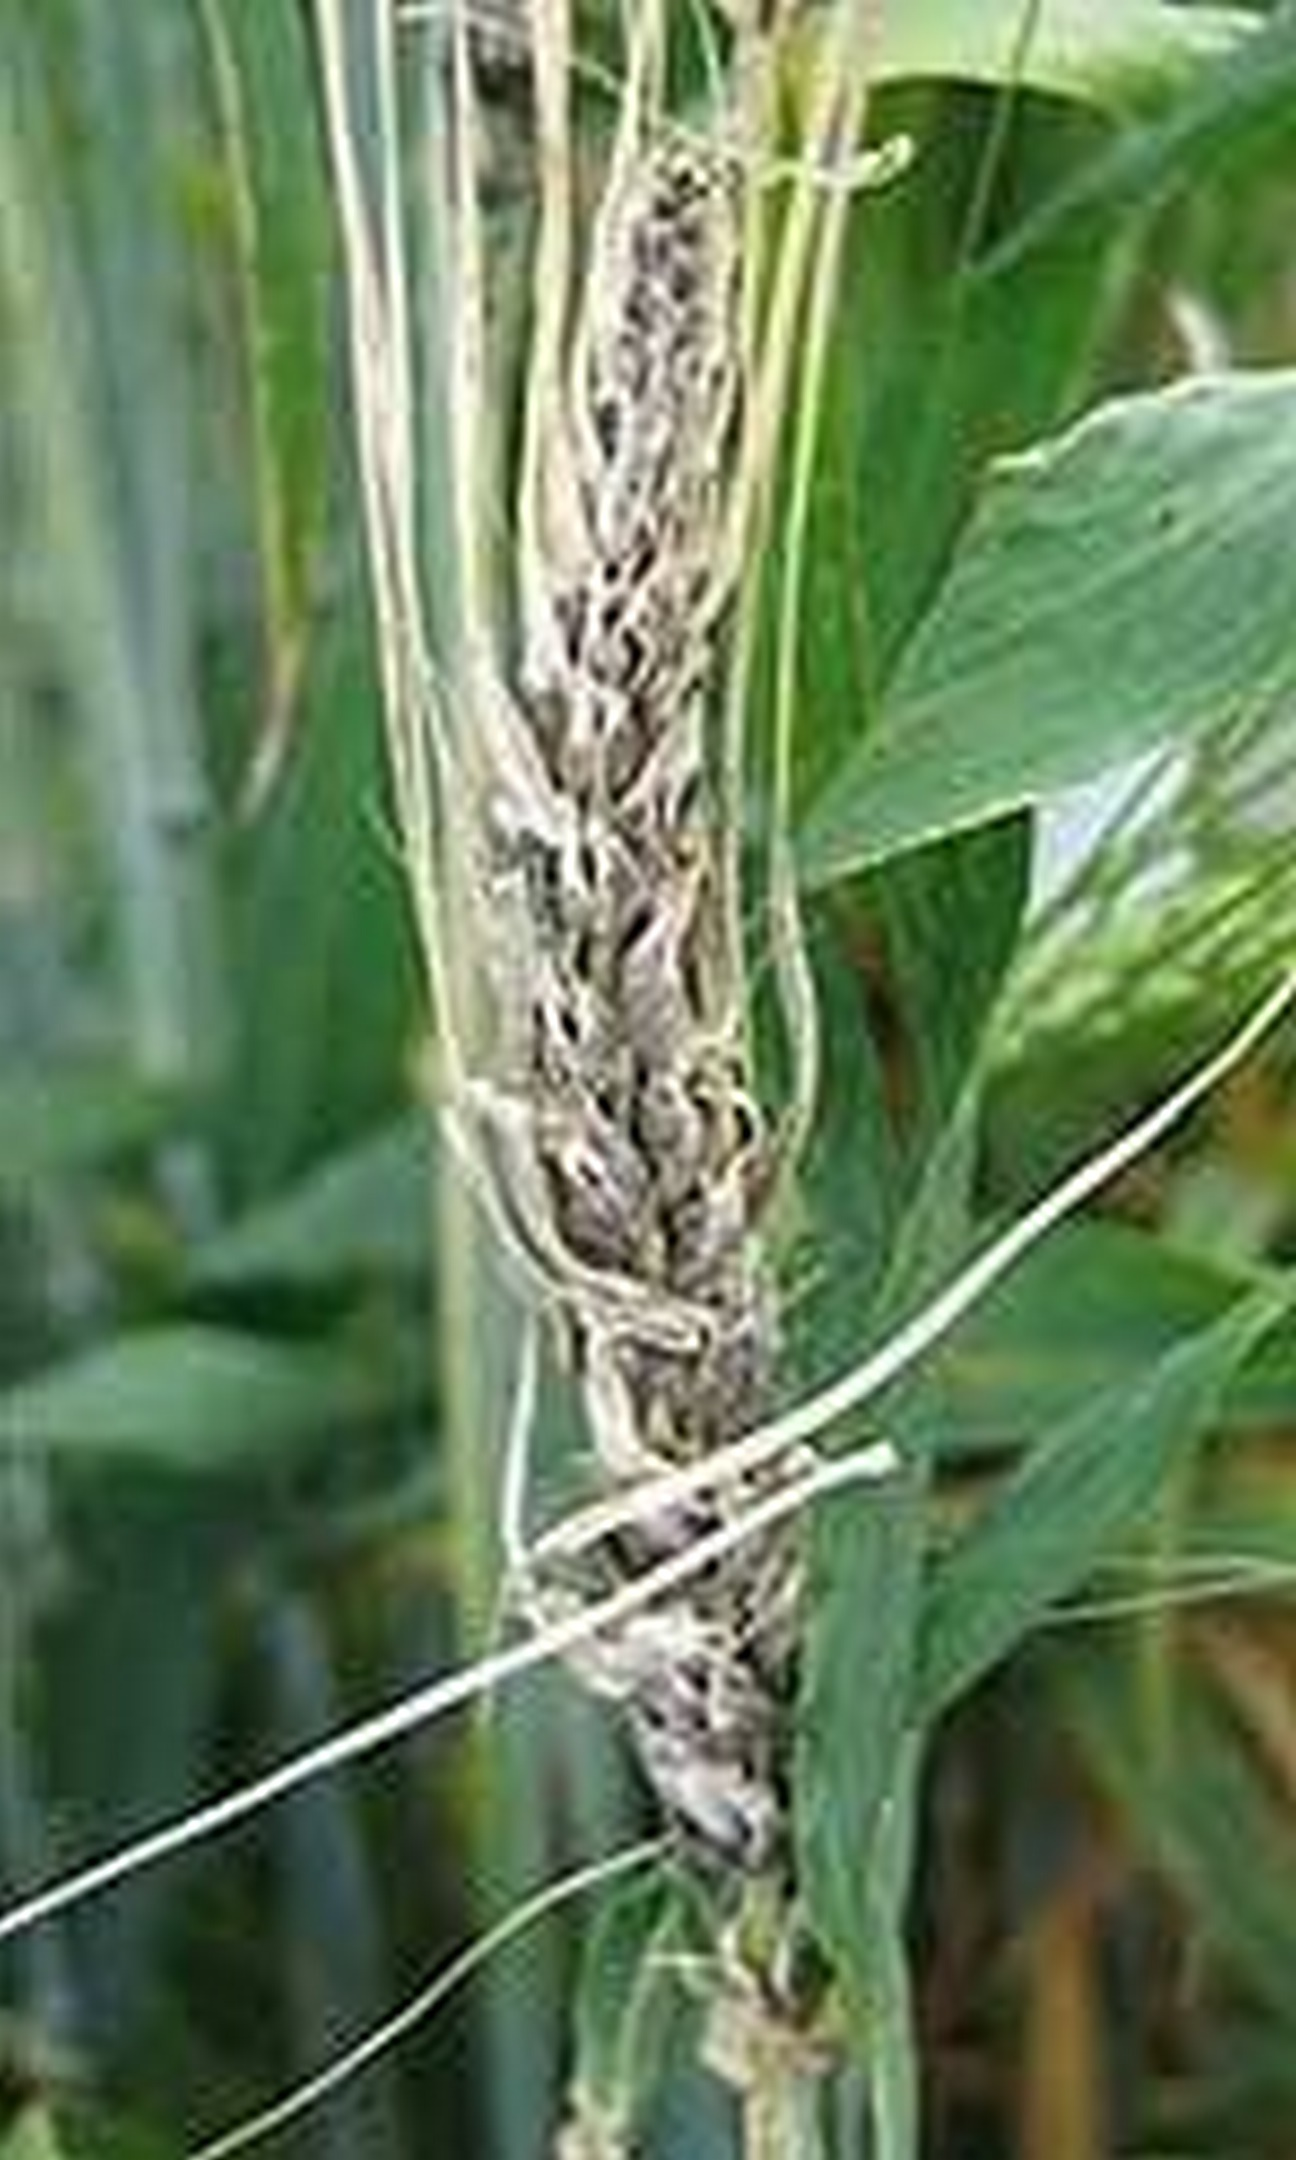Wheat Loose Smut: (417, 136, 872, 1848)
